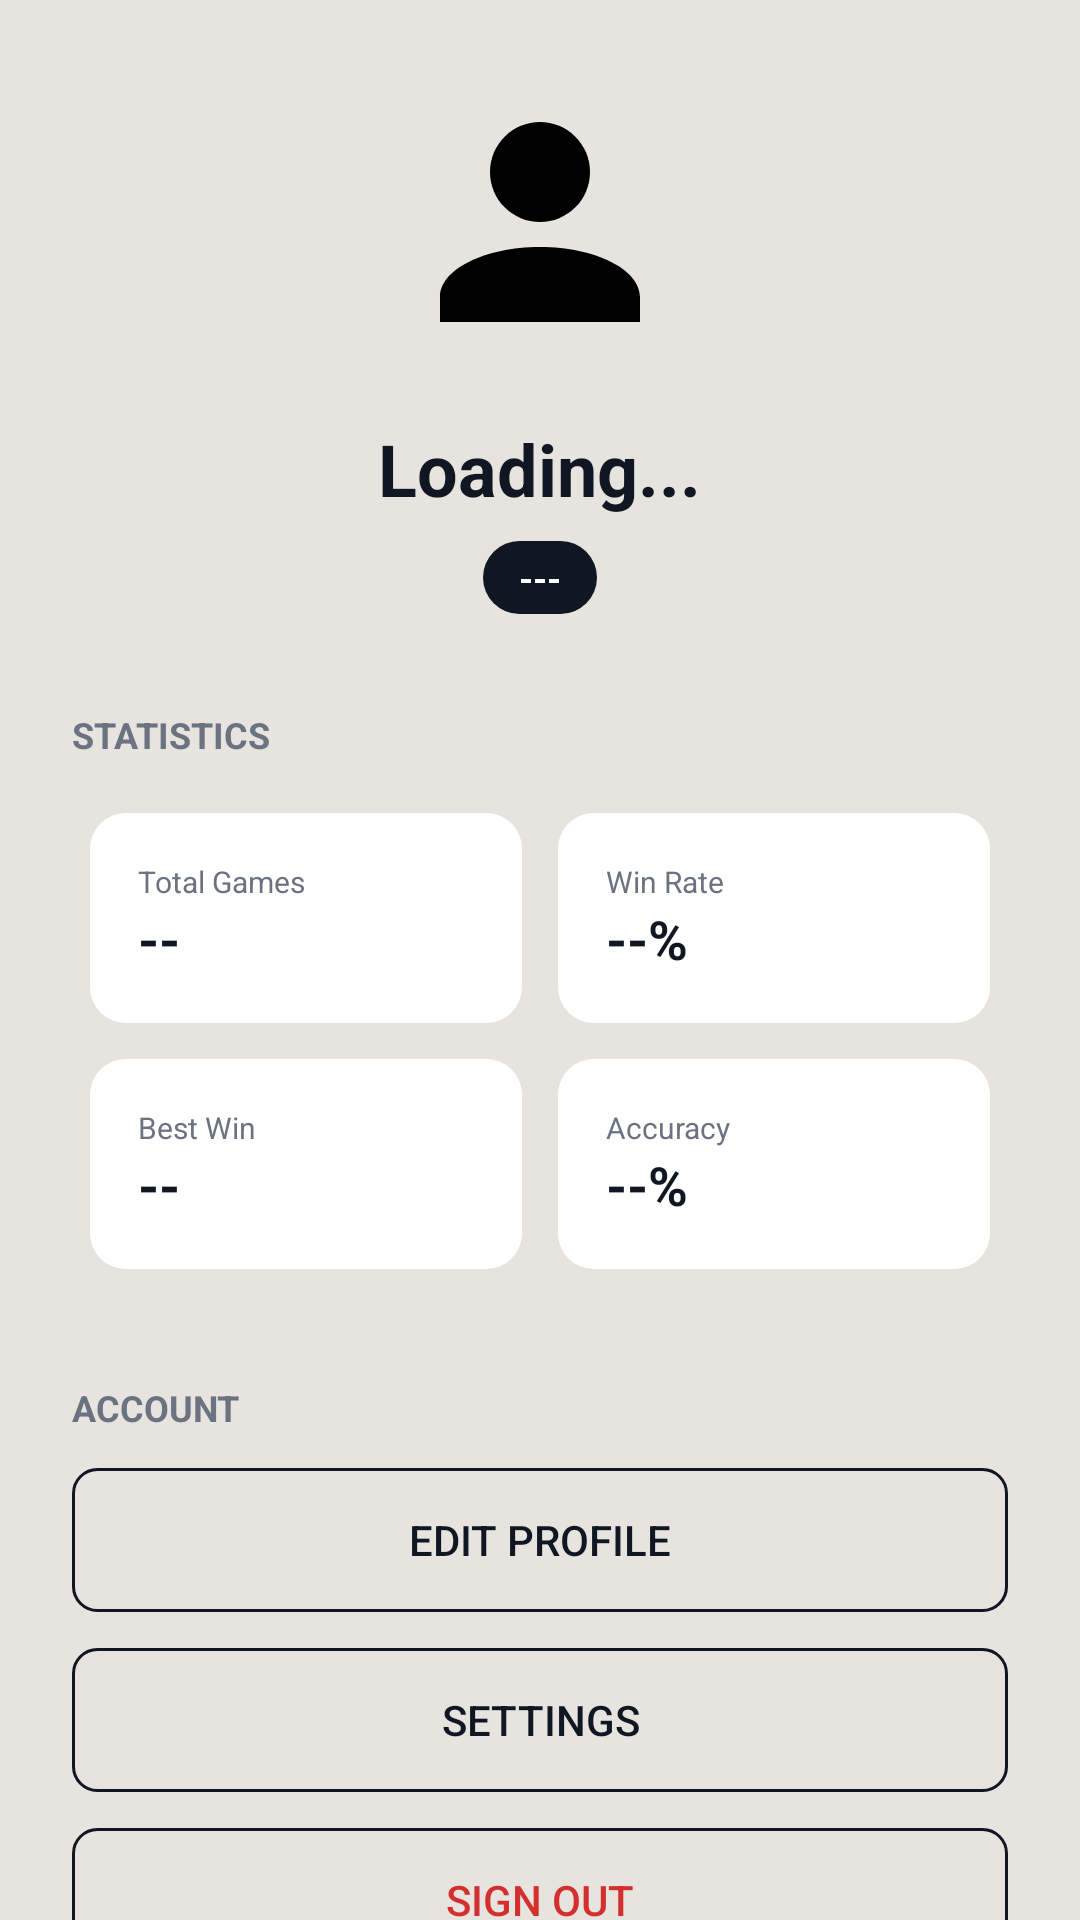

Named icons in this screenshot (1080w x 1920h) and their bounding boxes, (x1=x1, y1=y1, x2=x2, y2=y2):
profile: (x1=440, y1=122, x2=640, y2=322)
